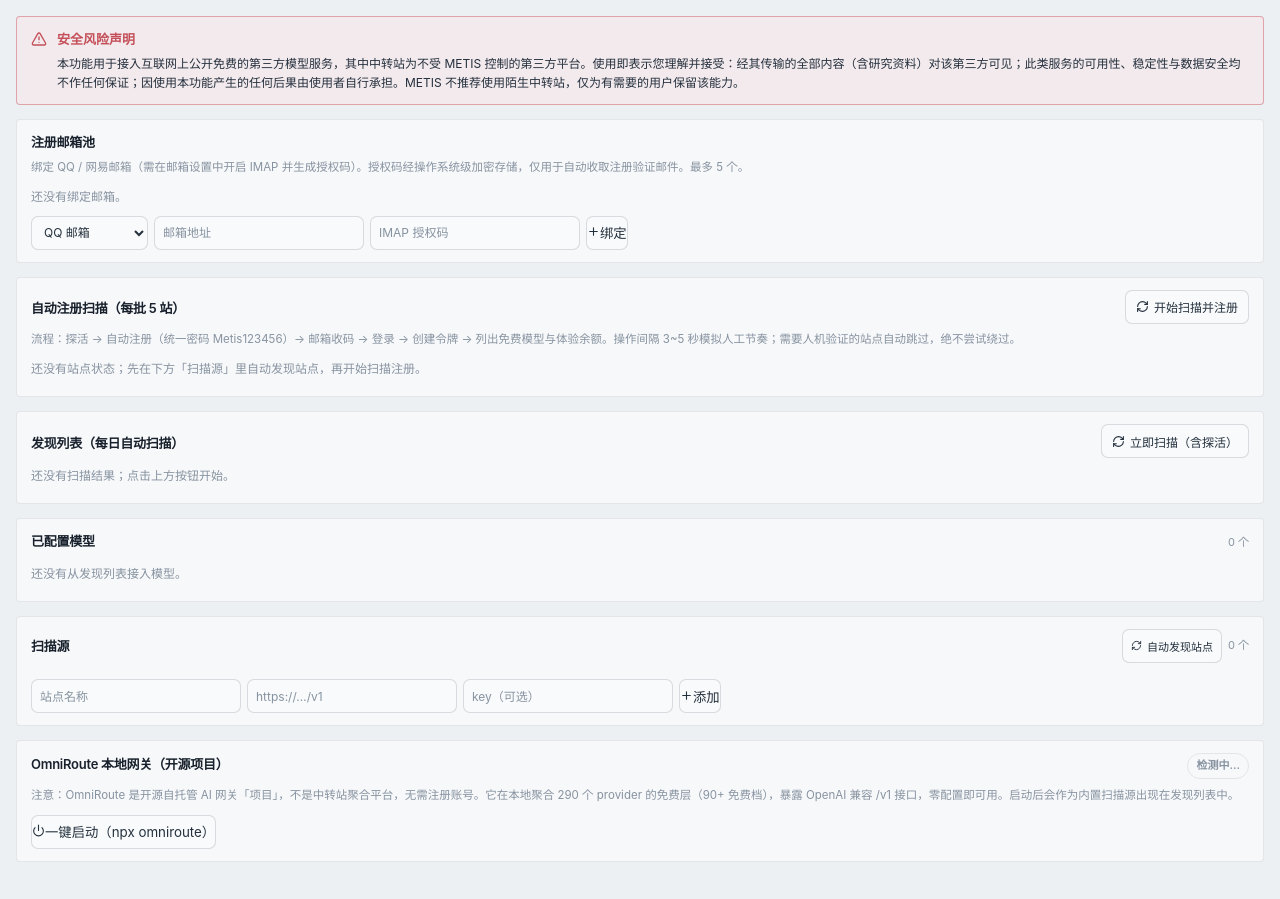
Test: FreeModelCenter › runs a scan through the real bridge and shows the candidate count
The width and height of the screenshot is (1280, 899).
What coordinates should you click on to do the following:
click the button "立即扫描（含探活）"
I would click on:
 (1175, 441)
Its box is [1101,424,1249,458].
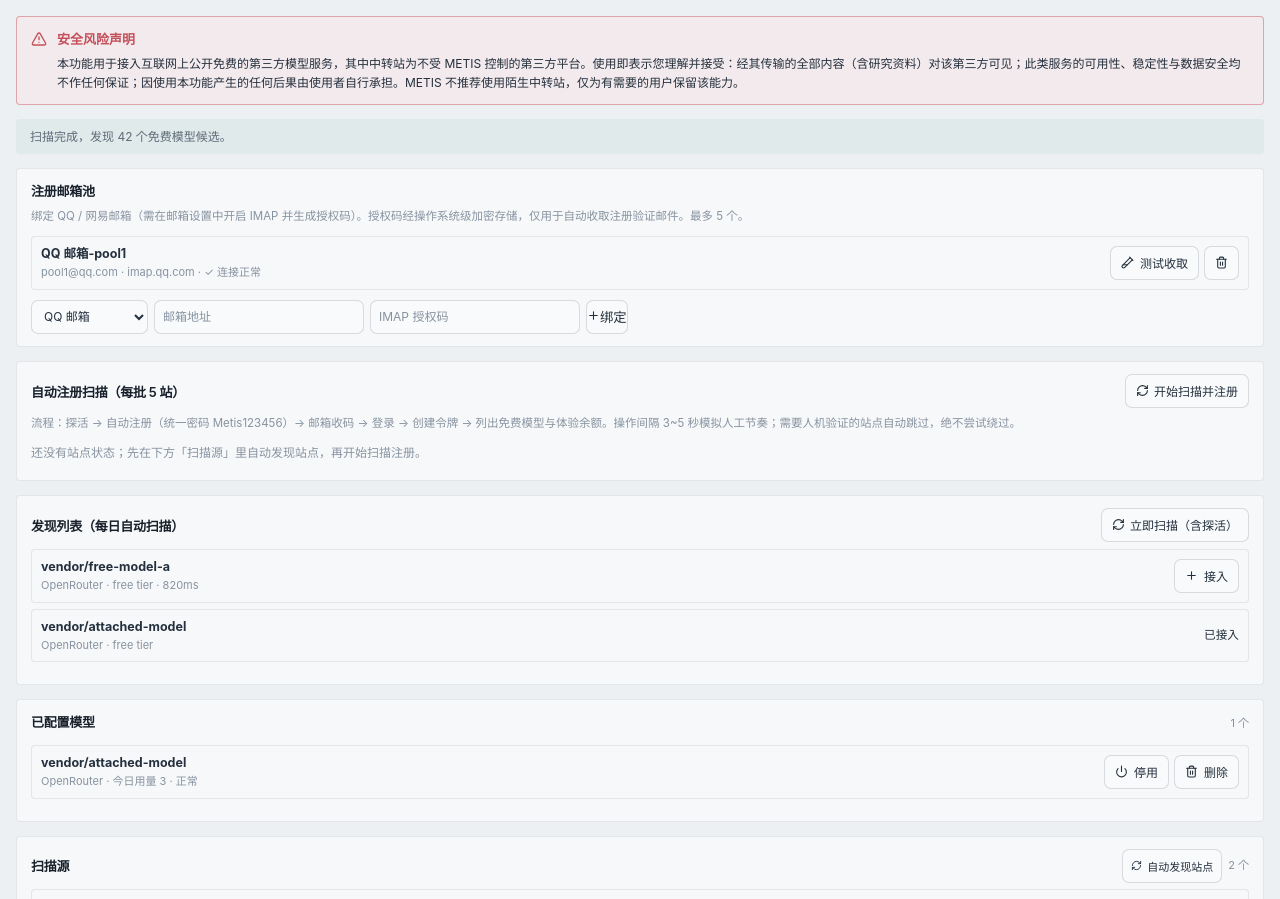
Expected: the text "扫描完成，发现 42 个免费模型候选。" is shown, [16,119,1264,154]
